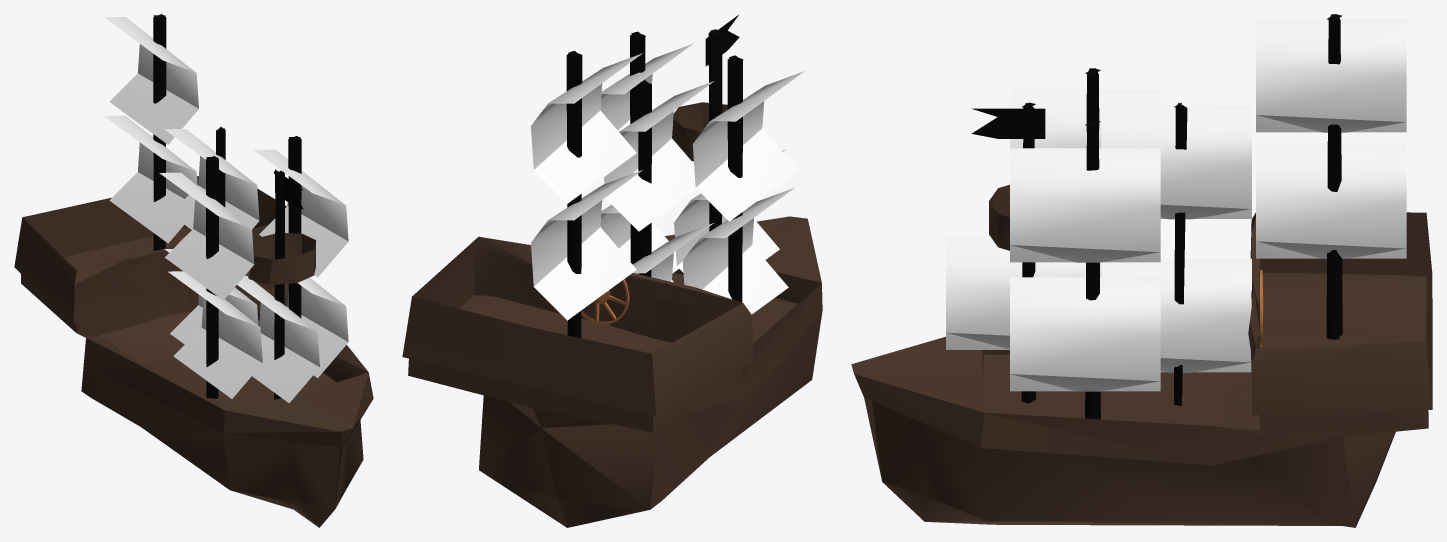
Rendered from ShipRedo.FBX.
3 views of the same model, side by side, from view 1: azimuth 30°, elevation 25°; view 2: azimuth 150°, elevation 25°; view 3: azimuth 270°, elevation 25° (orthographic). The views are drawn at different scales.
Parts seen in each view (by area): view 1: Symmetrie, Boole_8, Boole_3, Boole_7, Boole, Boole_4, Boole_6, Boole_2, Zylinder_3, Boole_5, Zylinder_5, Zylinder_4 (+4 smaller); view 2: Symmetrie, Boole_4, Boole_3, Boole_8, Boole_2, Boole_7, Zylinder_5, Zylinder_4, Boole, Boole_6, Zylinder_1, Zylinder_3 (+6 smaller); view 3: Symmetrie, Boole_6, Boole_5, Boole_3, Boole_4, Boole_2, Boole_1, Boole, Boole_8, Zylinder_4, Zylinder_1, Würfel_1 (+4 smaller).
Boxes of the visible parts, bbox=[...] form: Symmetrie: bbox=[14, 176, 373, 527]; Boole_8: bbox=[159, 172, 254, 300]; Boole_3: bbox=[104, 17, 198, 144]; Boole_7: bbox=[168, 271, 262, 398]; Boole: bbox=[237, 275, 319, 403]; Boole_4: bbox=[104, 115, 197, 243]; Boole_6: bbox=[254, 149, 348, 277]; Boole_2: bbox=[164, 129, 259, 229]; Zylinder_3: bbox=[246, 233, 315, 285]; Boole_5: bbox=[287, 277, 348, 377]; Zylinder_5: bbox=[206, 156, 218, 398]; Zylinder_4: bbox=[153, 14, 166, 250]; Symmetrie: bbox=[402, 216, 822, 527]; Boole_4: bbox=[531, 170, 642, 320]; Boole_3: bbox=[531, 53, 642, 203]; Boole_8: bbox=[693, 71, 804, 221]; Boole_2: bbox=[604, 81, 714, 231]; Boole_7: bbox=[682, 187, 794, 314]; Zylinder_5: bbox=[727, 55, 743, 302]; Zylinder_4: bbox=[566, 51, 582, 338]; Boole: bbox=[674, 149, 786, 272]; Boole_6: bbox=[600, 43, 693, 180]; Zylinder_1: bbox=[638, 80, 651, 276]; Zylinder_3: bbox=[672, 102, 727, 161]; Symmetrie: bbox=[851, 212, 1432, 527]; Boole_6: bbox=[1010, 148, 1160, 262]; Boole_5: bbox=[1010, 277, 1160, 391]; Boole_3: bbox=[1256, 18, 1406, 132]; Boole_4: bbox=[1256, 144, 1406, 258]; Boole_2: bbox=[1101, 105, 1251, 219]; Boole_1: bbox=[1101, 258, 1251, 372]; Boole: bbox=[946, 236, 1085, 349]; Boole_8: bbox=[1010, 89, 1160, 148]; Zylinder_4: bbox=[1326, 14, 1342, 339]; Zylinder_1: bbox=[1174, 102, 1187, 405]; Würfel_1: bbox=[971, 108, 1045, 138].
Bounding box in the file's own units: 185 × 296 × 307.
